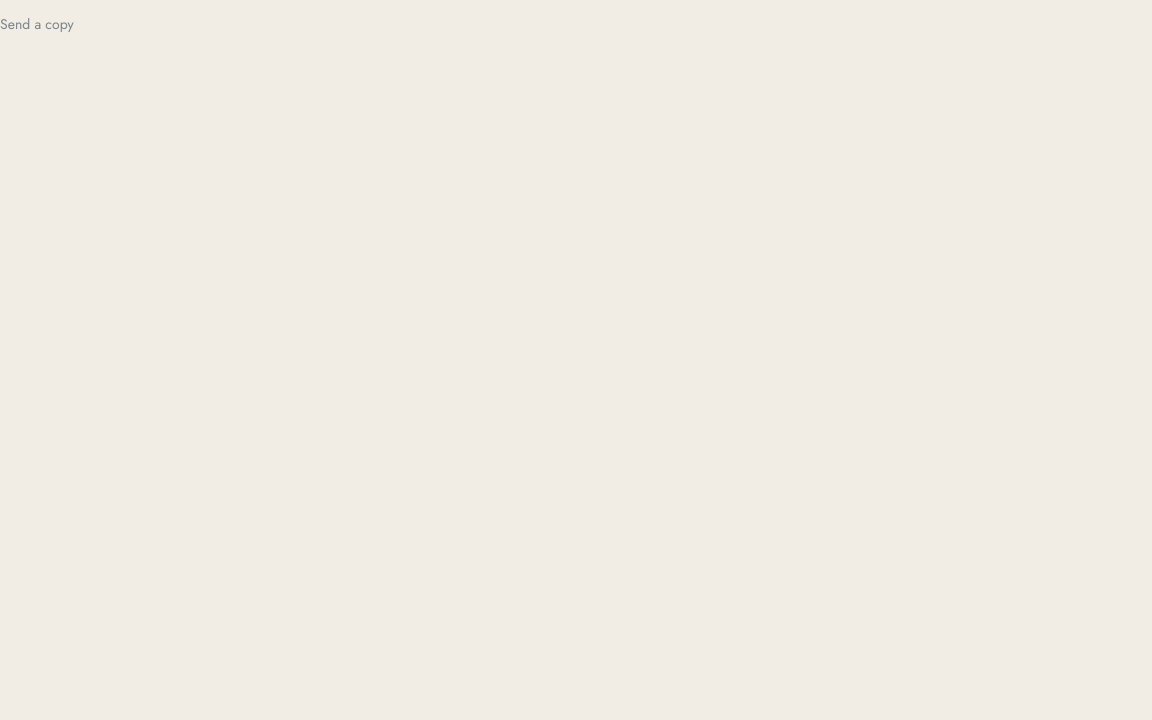
Test: artifact copy sending › closes after copying and shows feedback for exactly two seconds
Later steps or results of the test are not shown.
Step 1. Click the button "Send a copy" → (37, 24), box [0,6,74,42]
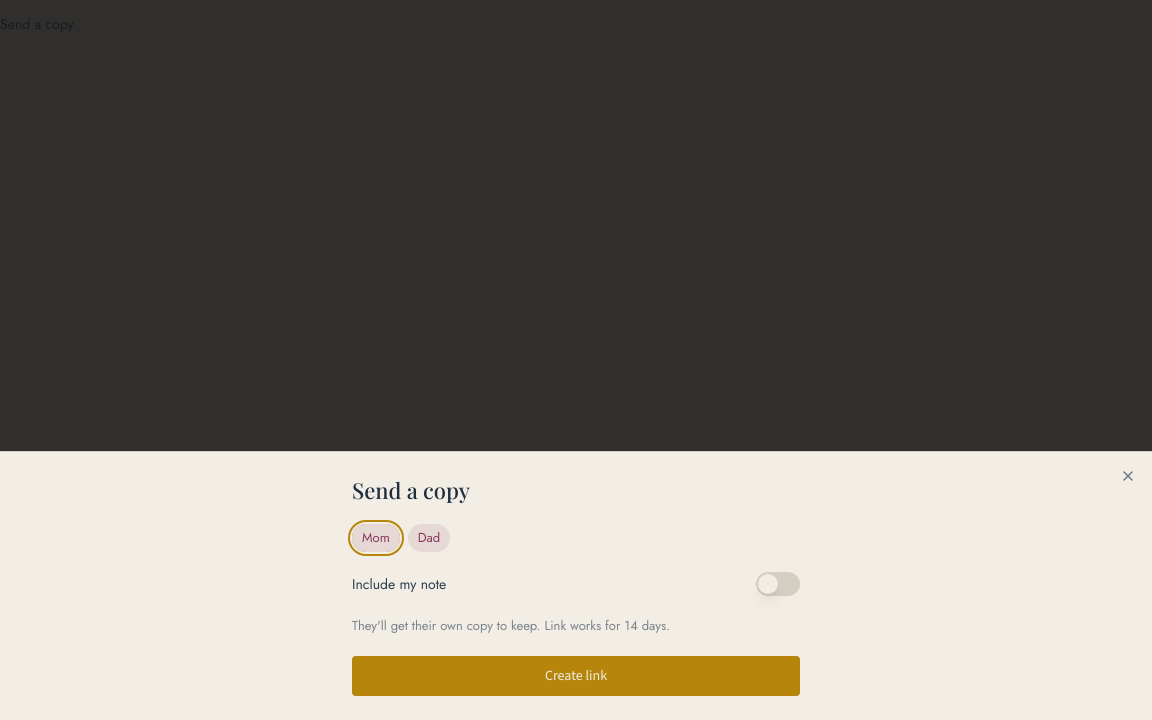
Expected: the button "Create link" is enabled
Step 2. Click the button "Create link" → (576, 676), box [352,656,800,696]
Wait 2000 ms
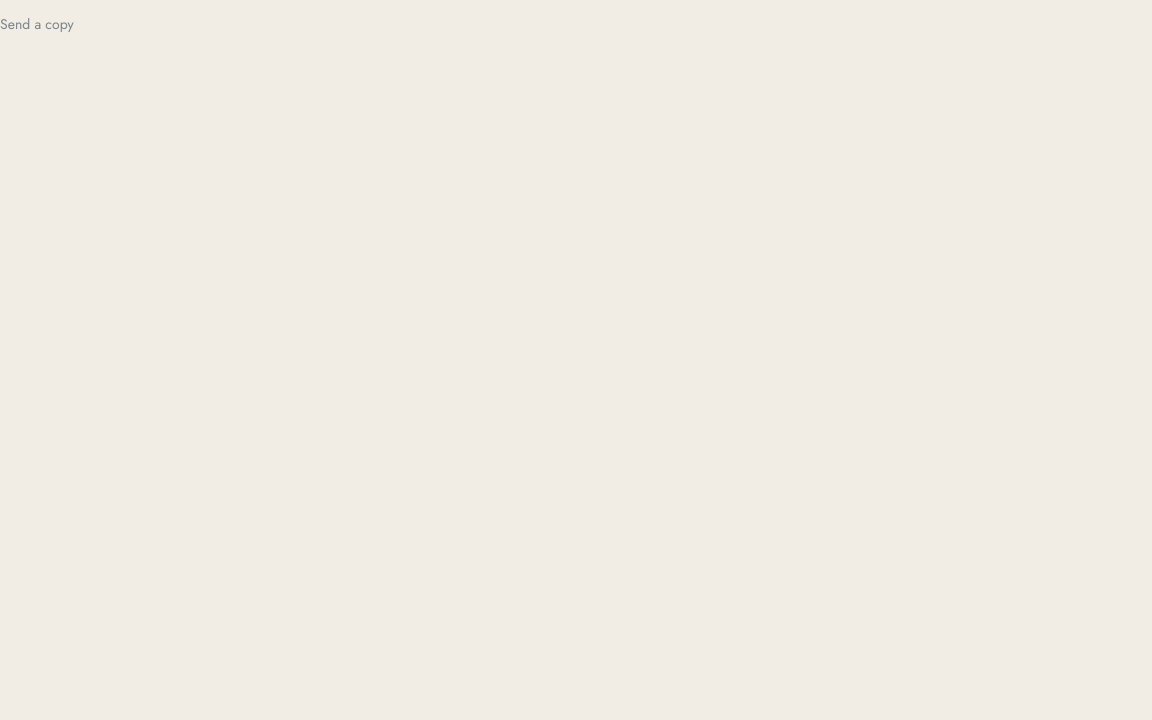
Expected: the dialog is gone
